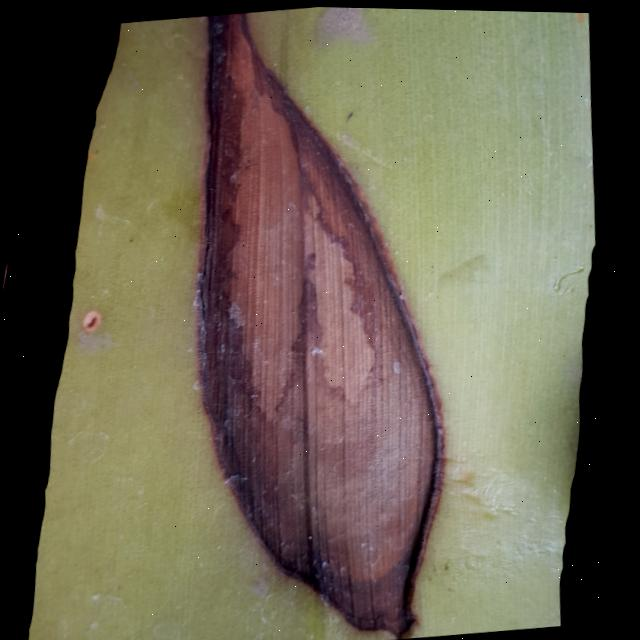mite: (310, 5, 378, 130), (72, 289, 121, 351), (313, 5, 373, 46), (340, 102, 366, 171), (552, 259, 590, 294), (338, 99, 364, 127), (84, 306, 107, 331), (424, 253, 443, 276), (126, 230, 141, 246), (447, 554, 460, 571), (344, 106, 357, 120), (429, 259, 439, 271), (129, 234, 138, 243)
sunburn: (180, 5, 464, 640)
